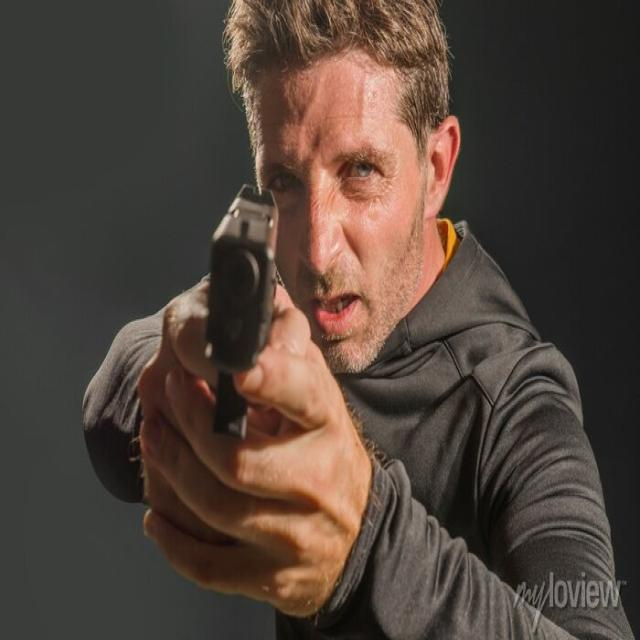HandGun: (205, 184, 277, 440)
